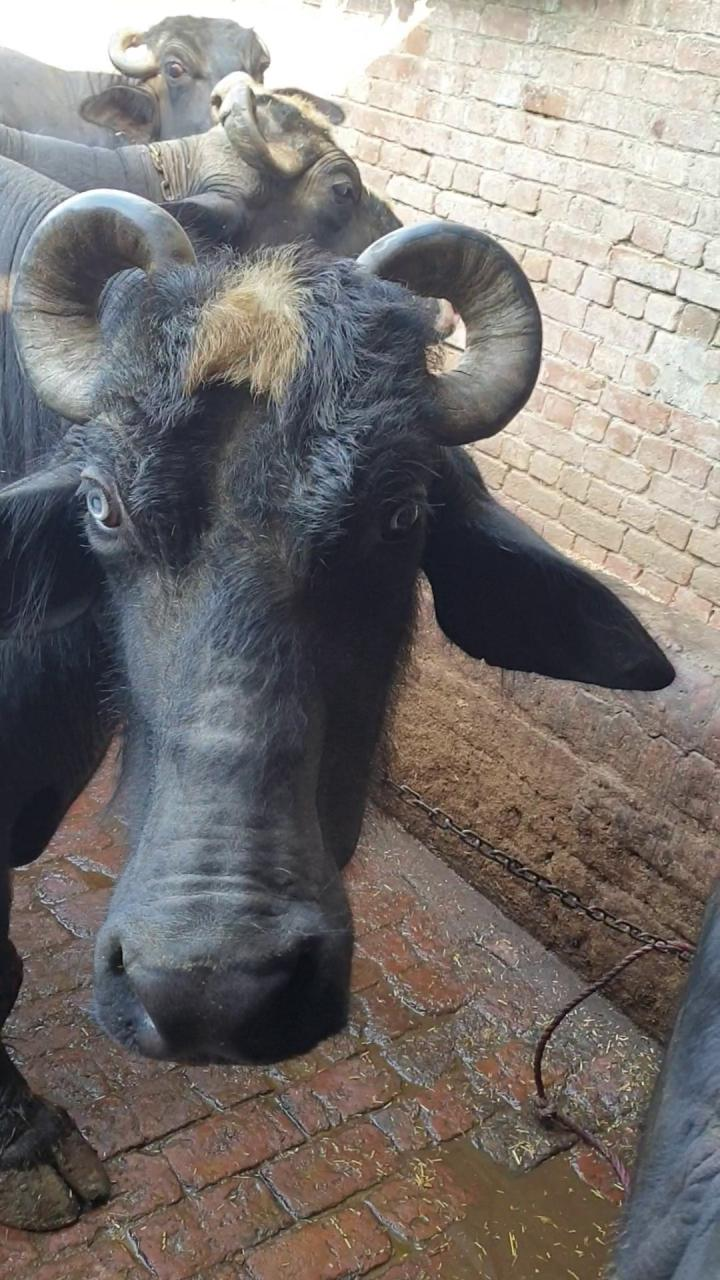cows: (42, 298, 458, 1107)
